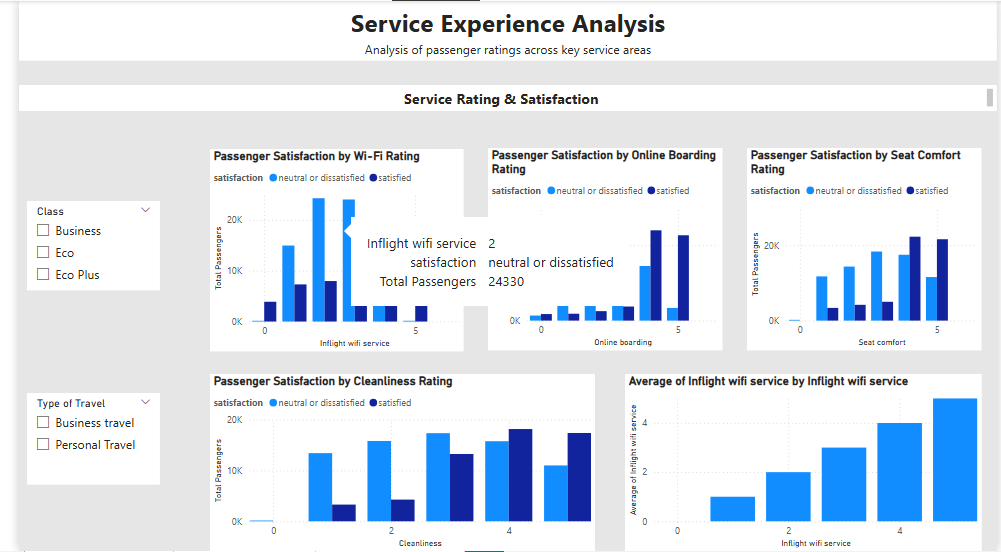

The page's visual inventory and layout, read from the dashboard file:
{"tool":"powerbi","page":{"name":"Service Experience","canvas":[1280,720],"ordinal":1},"visuals":[{"type":"clusteredColumnChart","fields":{"Category":["AirlineData.Inflight wifi service"],"Y":["Avg(AirlineData.Inflight wifi service)"]},"box":[793.4,488.2,466.6,231.8],"z":0},{"type":"clusteredColumnChart","title":"Passenger Satisfaction by Wi-Fi Rating","fields":{"Category":["AirlineData.Inflight wifi service"],"Y":["AirlineData.Total Passengers"],"Series":["AirlineData.satisfaction"]},"box":[250.2,193.2,332.2,264.9],"z":1000},{"type":"clusteredColumnChart","title":"Passenger Satisfaction by Online Boarding Rating","fields":{"Category":["AirlineData.Online boarding"],"Y":["AirlineData.Total Passengers"],"Series":["AirlineData.satisfaction"]},"box":[613.4,193,306.7,265],"z":2000},{"type":"clusteredColumnChart","title":"Passenger Satisfaction by Seat Comfort Rating","fields":{"Category":["AirlineData.Seat comfort"],"Y":["AirlineData.Total Passengers"],"Series":["AirlineData.satisfaction"]},"box":[953.3,193,306.7,265],"z":3000},{"type":"clusteredColumnChart","title":"Passenger Satisfaction by Cleanliness Rating","fields":{"Category":["AirlineData.Cleanliness"],"Y":["AirlineData.Total Passengers"],"Series":["AirlineData.satisfaction"]},"box":[250.6,488.2,504,231.8],"z":4000},{"type":"slicer","fields":{"Values":["AirlineData.Class"]},"box":[10.2,262,174.1,117.1],"z":5000},{"type":"slicer","fields":{"Values":["AirlineData.Type of Travel"]},"box":[10.2,513.7,174.1,120],"z":6000},{"type":"textbox","box":[0,0,1280.5,60],"z":6002},{"type":"textbox","box":[0,46.8,1280.5,30.7],"z":6003},{"type":"textbox","box":[0,109.8,1280.5,33.7],"z":6005}]}

Visuals, with their boxes on the page's 1280x720 design canvas (x1, y1, x2, y2). These are canvas units, not pixel positions in the 1001x552 screenshot, which may show the page scaled, cropped or inside an application window:
clusteredColumnChart - AirlineData.Inflight wifi service x Avg(AirlineData.Inflight wifi service): left=793, top=488, right=1260, bottom=720
"Passenger Satisfaction by Wi-Fi Rating" clusteredColumnChart: left=250, top=193, right=582, bottom=458
"Passenger Satisfaction by Online Boarding Rating" clusteredColumnChart: left=613, top=193, right=920, bottom=458
"Passenger Satisfaction by Seat Comfort Rating" clusteredColumnChart: left=953, top=193, right=1260, bottom=458
"Passenger Satisfaction by Cleanliness Rating" clusteredColumnChart: left=251, top=488, right=755, bottom=720
slicer - AirlineData.Class: left=10, top=262, right=184, bottom=379
slicer - AirlineData.Type of Travel: left=10, top=514, right=184, bottom=634
textbox: left=0, top=0, right=1280, bottom=60
textbox: left=0, top=47, right=1280, bottom=78
textbox: left=0, top=110, right=1280, bottom=144
